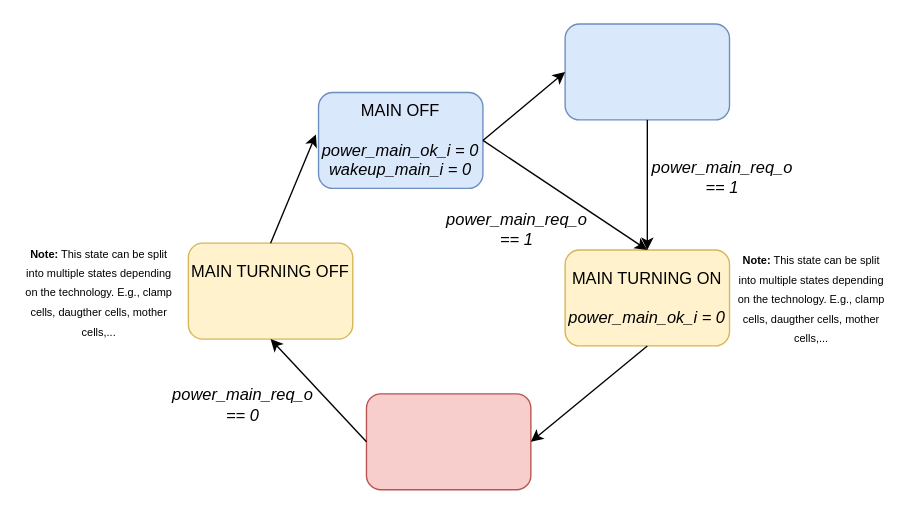
The diagram is 910 pixels wide and 514 high, and some of its shapes have lost their labels. The shapes that lost their labels are listed below. From the top down, each one's box as (x1, y1, x2, y2) in pixels, then its label:
(564, 23, 730, 120): MAIN WAKEUP wakeup_main_i = 1
(365, 393, 531, 490): MAIN ON power_main_ok_i = 1 wakeup_main_i = 0
